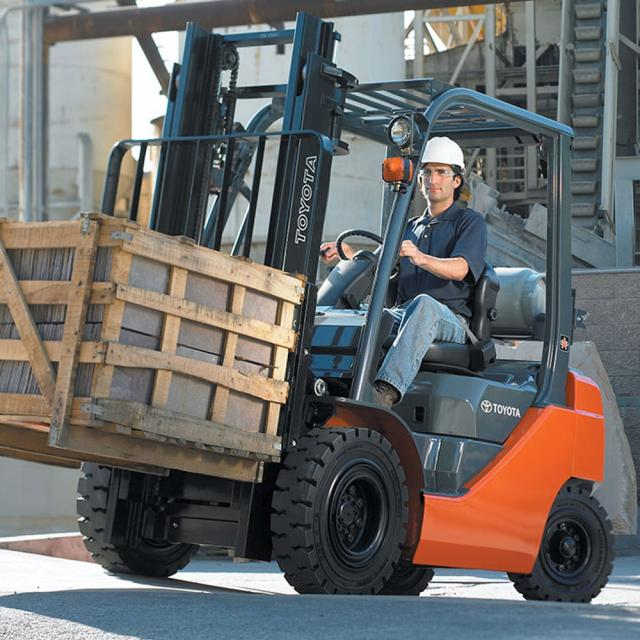Person: (321, 135, 487, 410)
